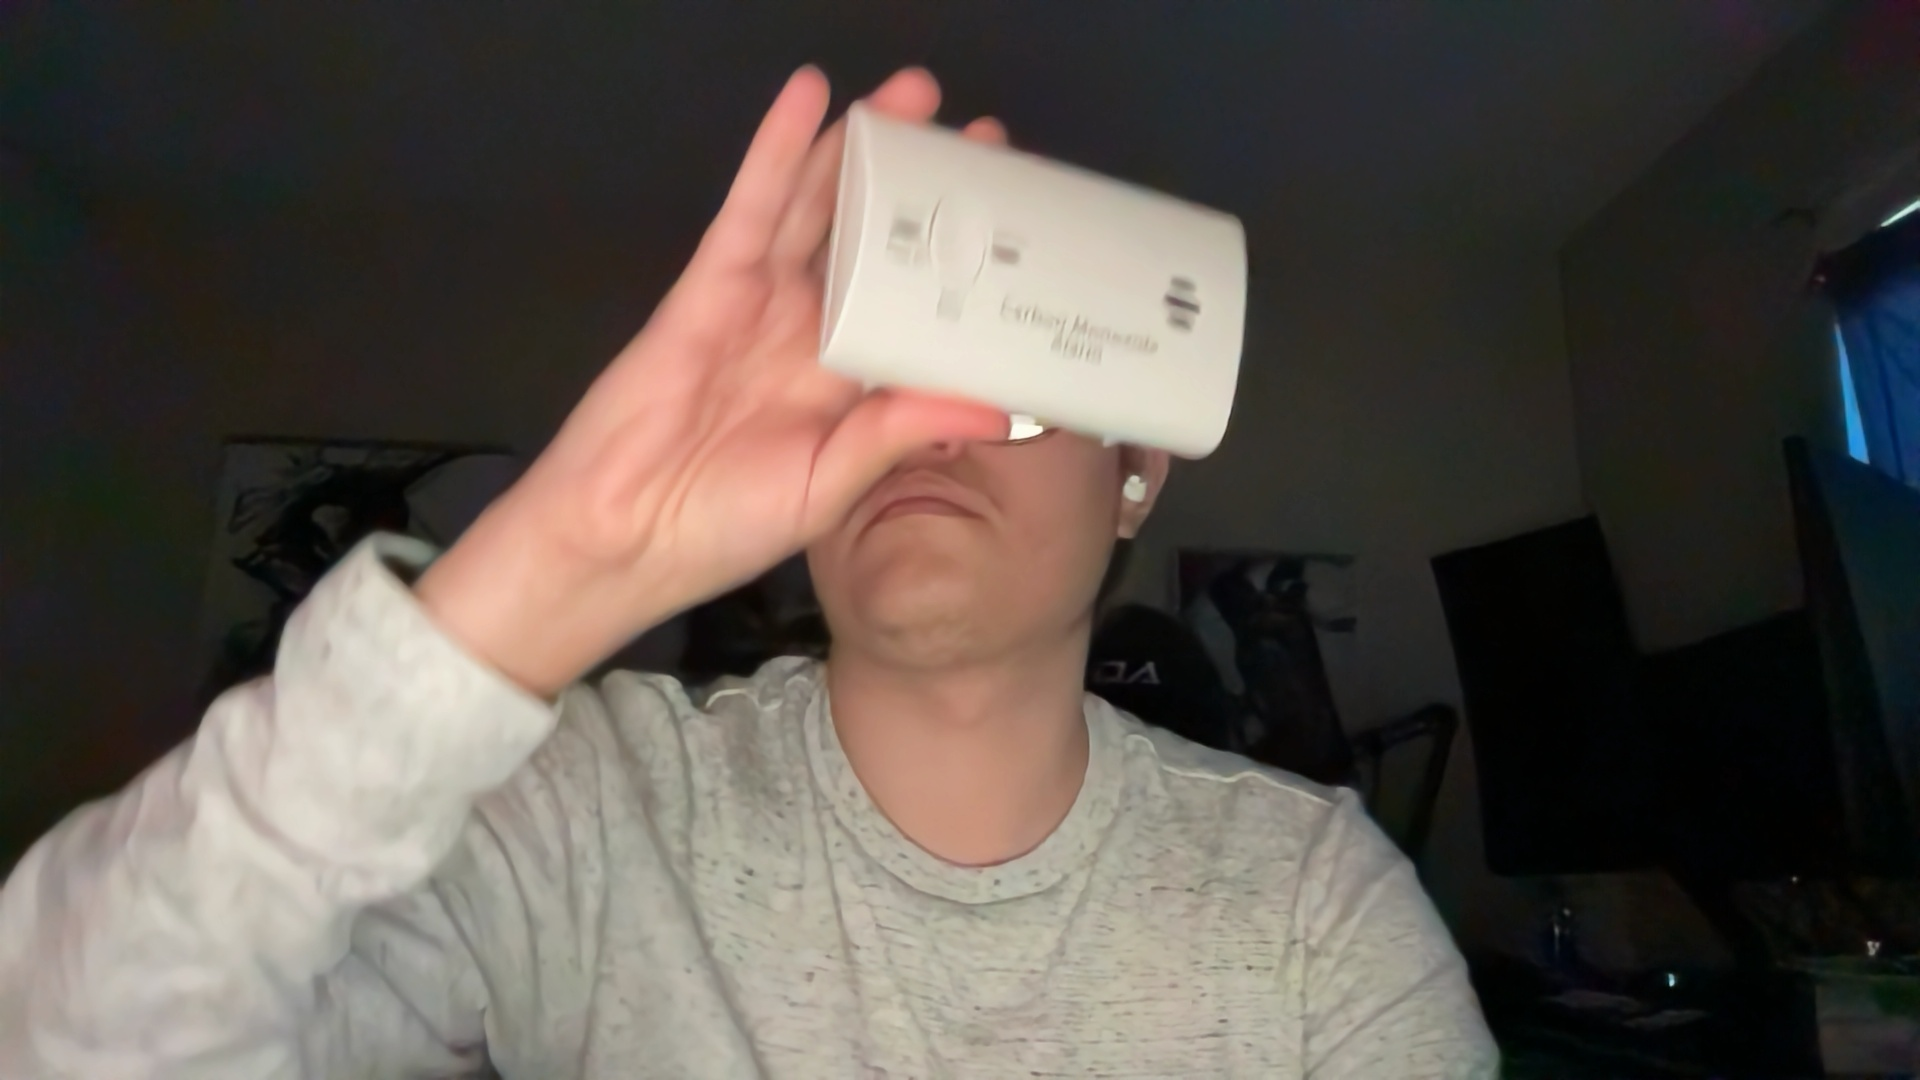carbonmonitor: (814, 80, 1245, 500)
